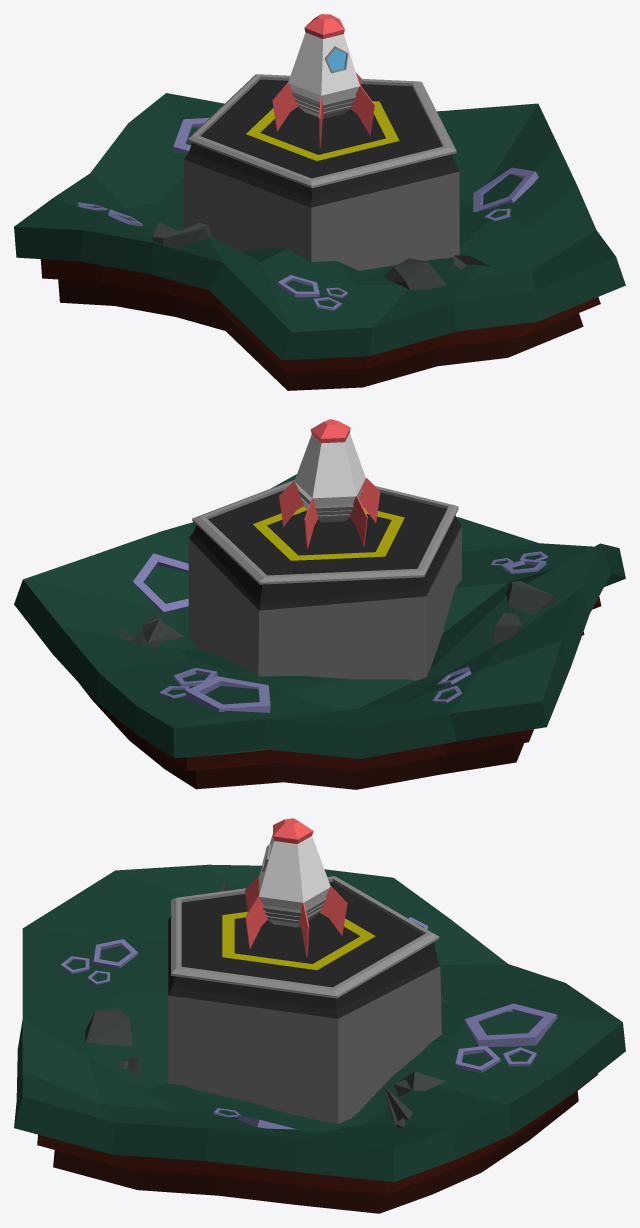
File: Rocket_threejs.glb
The picture shows the model from 3 angles, top to bottom: view 1: azimuth 30°, elevation 25°; view 2: azimuth 150°, elevation 25°; view 3: azimuth 270°, elevation 25°; orthographic projection. The views are drawn at different scales.
Parts seen in each view (by area): view 1: GroundTop, Launchpad.002, GroundBottom, GroundMid, RocketBody, Rock, Fin, Crater.003, Circle, RocketTop, Crater.006, Crater; view 2: GroundTop, Launchpad.002, GroundBottom, GroundMid, RocketBody, Rock, Fin, Crater.006, Crater.003, RocketTop, Circle; view 3: GroundTop, Launchpad.002, GroundBottom, GroundMid, RocketBody, Rock, Fin, Crater.006, Circle, RocketTop, Crater.008, Crater.
Part boxes in pixels (x1=…): GroundTop: x1=14, y1=93, x2=625, y2=360; Launchpad.002: x1=184, y1=74, x2=459, y2=270; GroundBottom: x1=58, y1=279, x2=583, y2=390; GroundMid: x1=40, y1=259, x2=600, y2=372; RocketBody: x1=288, y1=32, x2=359, y2=102; Rock: x1=152, y1=222, x2=490, y2=289; Fin: x1=272, y1=73, x2=374, y2=147; Crater.003: x1=473, y1=167, x2=538, y2=211; Circle: x1=292, y1=92, x2=356, y2=118; RocketTop: x1=304, y1=14, x2=344, y2=38; Crater.006: x1=173, y1=118, x2=209, y2=153; Crater: x1=277, y1=275, x2=319, y2=297; GroundTop: x1=14, y1=474, x2=625, y2=758; Launchpad.002: x1=188, y1=479, x2=461, y2=680; GroundBottom: x1=78, y1=632, x2=584, y2=789; GroundMid: x1=111, y1=596, x2=601, y2=771; RocketBody: x1=294, y1=433, x2=365, y2=505; Rock: x1=119, y1=581, x2=554, y2=647; Fin: x1=279, y1=477, x2=380, y2=549; Crater.006: x1=185, y1=676, x2=270, y2=712; Crater.003: x1=133, y1=553, x2=188, y2=613; RocketTop: x1=310, y1=419, x2=350, y2=443; Circle: x1=298, y1=488, x2=362, y2=522; GroundTop: x1=14, y1=864, x2=625, y2=1182; Launchpad.002: x1=168, y1=876, x2=441, y2=1123; GroundBottom: x1=53, y1=1091, x2=578, y2=1213; GroundMid: x1=37, y1=1074, x2=597, y2=1194; RocketBody: x1=259, y1=834, x2=330, y2=910; Rock: x1=85, y1=880, x2=445, y2=1127; Fin: x1=245, y1=876, x2=347, y2=956; Crater.006: x1=464, y1=1003, x2=557, y2=1046; Circle: x1=263, y1=896, x2=326, y2=927; RocketTop: x1=273, y1=818, x2=313, y2=843; Crater.008: x1=455, y1=1046, x2=500, y2=1072; Crater: x1=93, y1=939, x2=138, y2=968.
Bounding box in the file's own units: 23.26 × 12.65 × 22.13.
